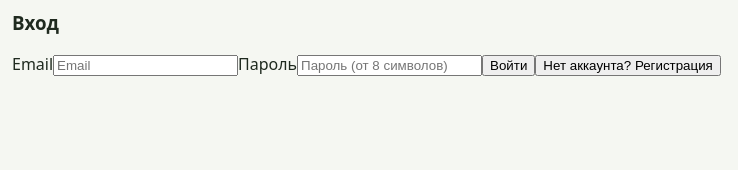
Test case: LoginForm › при ответе сервера 401 показывает сообщение об ошибке
Type "farmer@agromarket.kz" into the field with placeholder "Email" at (146, 66), box [53,55,238,76]
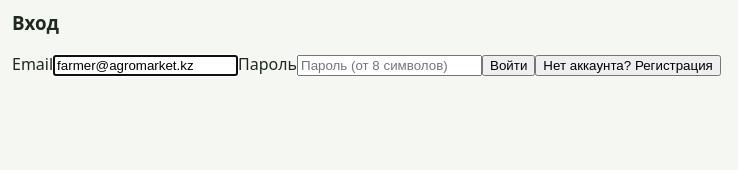
Type "secret123" into the password field with placeholder "Пароль (от 8 символов)" at (390, 66), box [297,55,482,76]
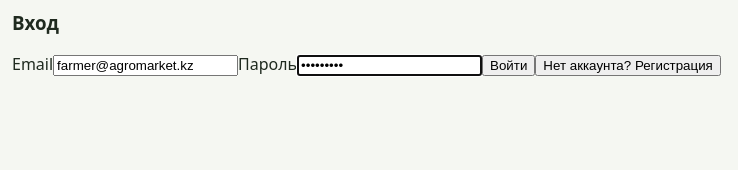
Click the button "Войти" at (509, 66), box [482,55,535,76]
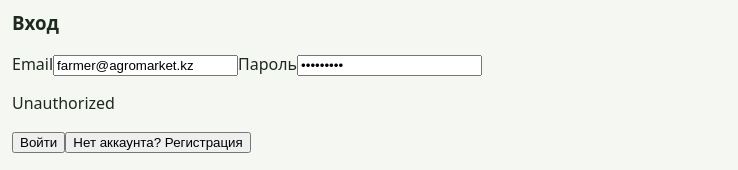
Expected: the text "Unauthorized" is shown, [12,92,115,114]
